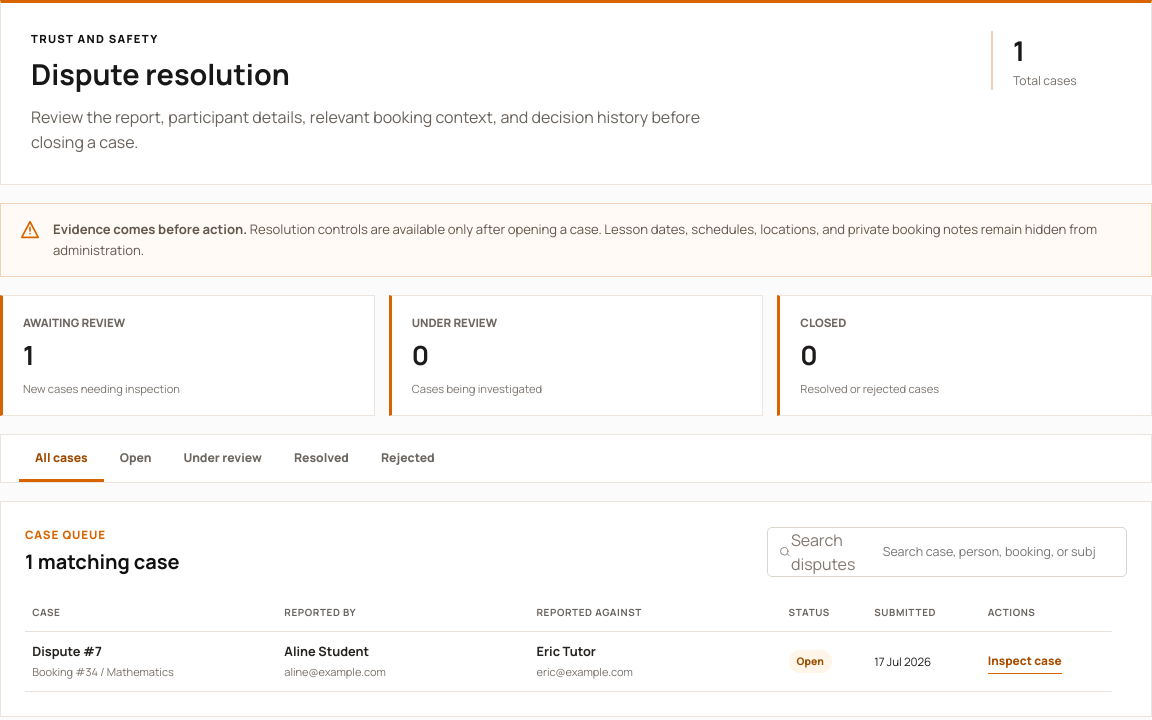
Scenario: AdminDisputesPage › requires the admin to inspect evidence before decision controls appear
Check: the text "Dispute #7" is shown, box [32,642,102,660]
Click the button "Inspect case": (1025, 661) [988,649,1062,674]
(page scrolled)
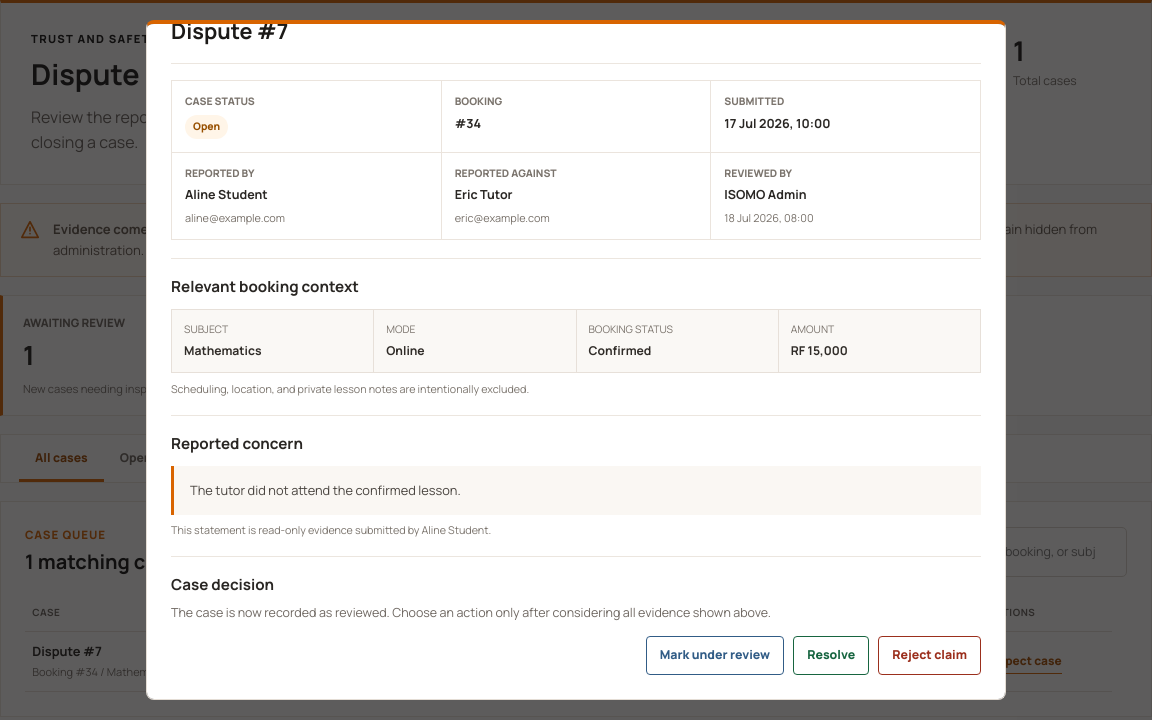
Check: the heading "Relevant booking context" is shown, box [171,276,359,297]
Check: the text "The tutor did not attend the confirmed lesson." is shown, box [171,466,981,515]
Check: the text "ISOMO Admin" is shown, box [724,186,806,203]
